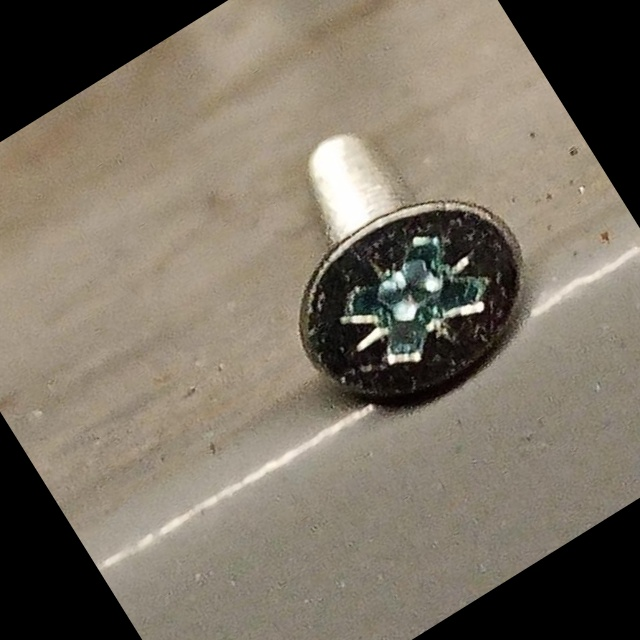pozidriv: (263, 159, 566, 444)
